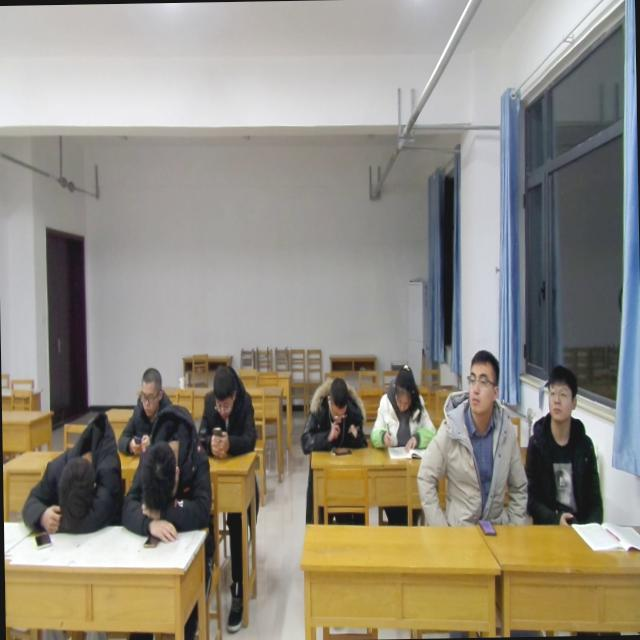bow: (117, 412, 216, 542), (17, 416, 124, 536)
down: (206, 360, 238, 418), (324, 372, 352, 424), (137, 362, 162, 418), (390, 360, 414, 416)
lookup: (462, 342, 500, 415), (540, 360, 580, 424)
sit: (413, 345, 528, 524), (525, 354, 604, 525), (118, 362, 192, 458), (195, 350, 259, 460), (366, 368, 438, 453), (300, 380, 365, 460)
